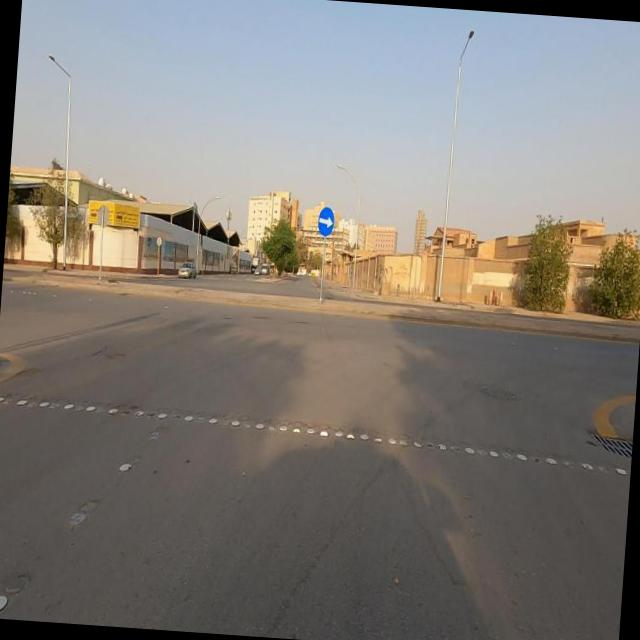debris: (364, 231, 434, 315), (355, 232, 406, 320)
